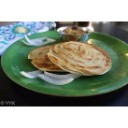parota: (51, 40, 111, 75), (29, 46, 70, 72)
